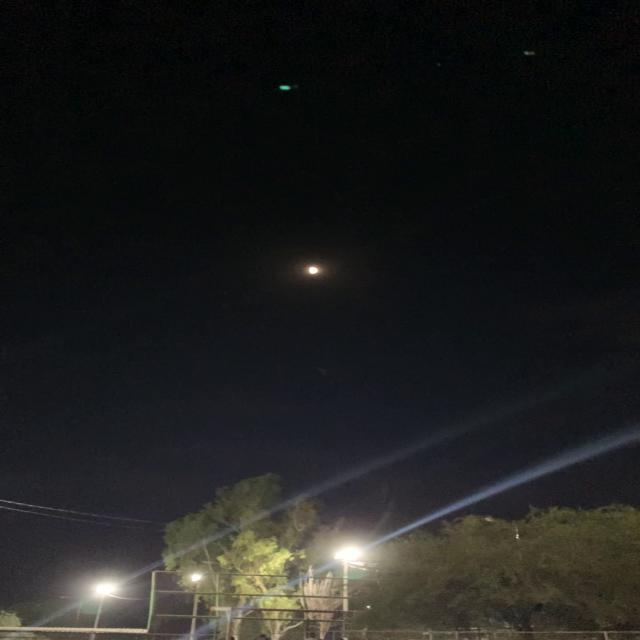moon: (302, 258, 336, 290)
